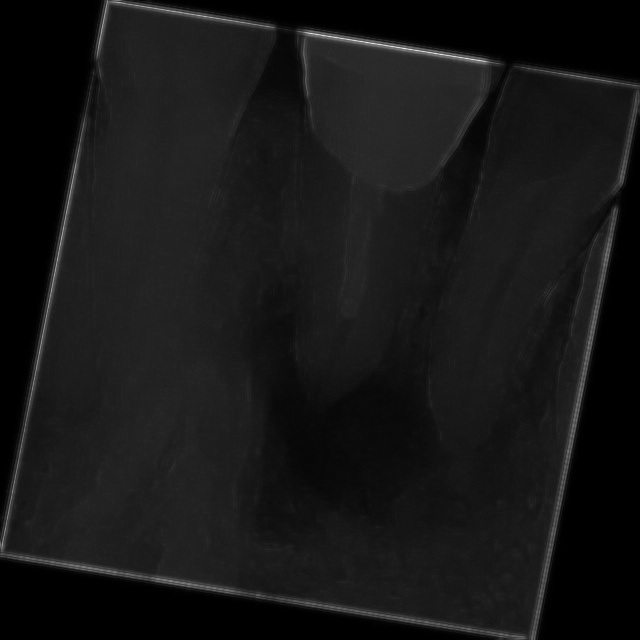Class 1- complete endodontic treatment: (151, 22, 549, 552)
